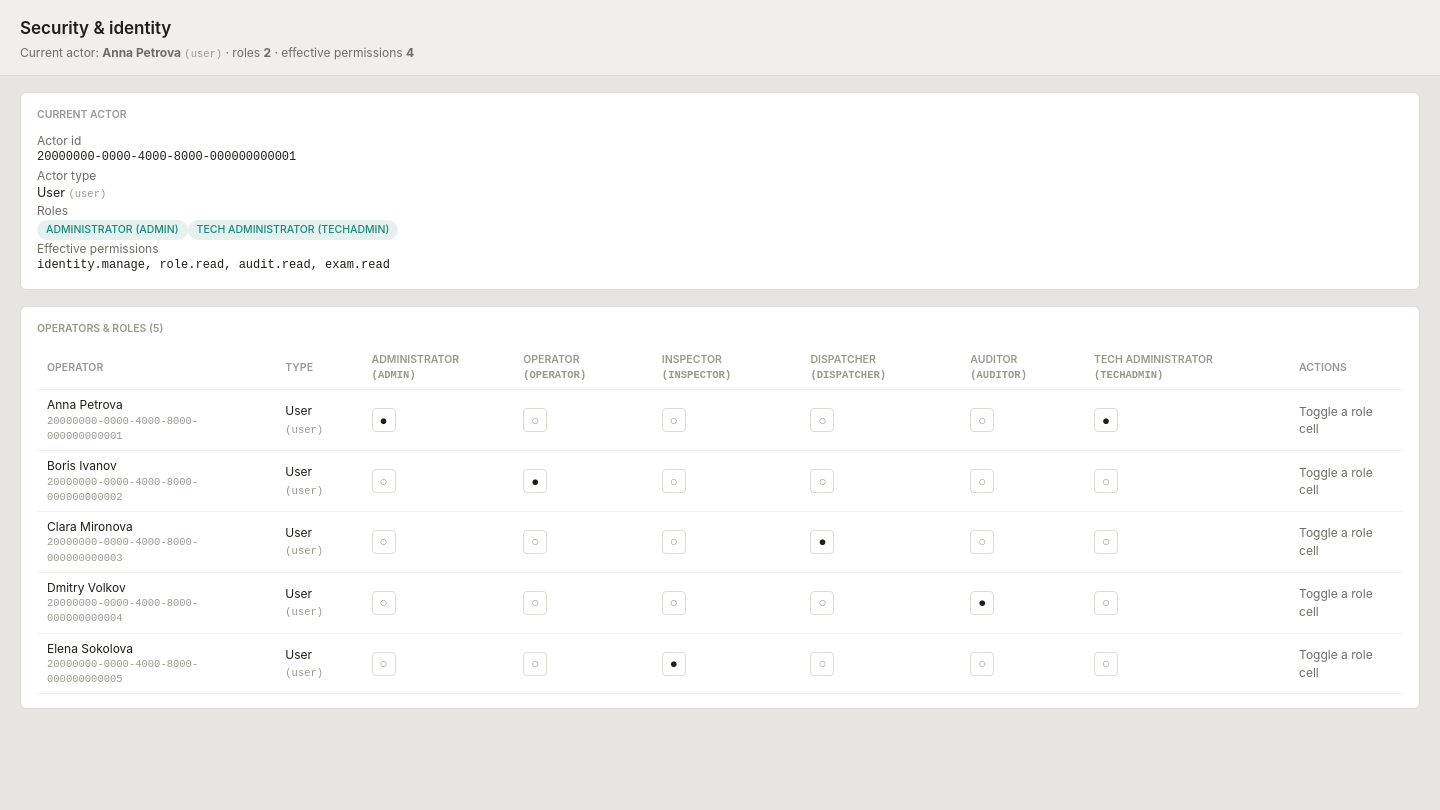
SecurityScreen live role management › surfaces a classified access-denied error when assign is forbidden (403)
Check: the heading "Security & identity" is shown, box [20, 18, 171, 38]
What coordinates should you click on to do the following:
click the button named "assign role auditor to Boris Ivanov"
I would click on:
 (982, 481)
Its box is [970, 469, 994, 493].
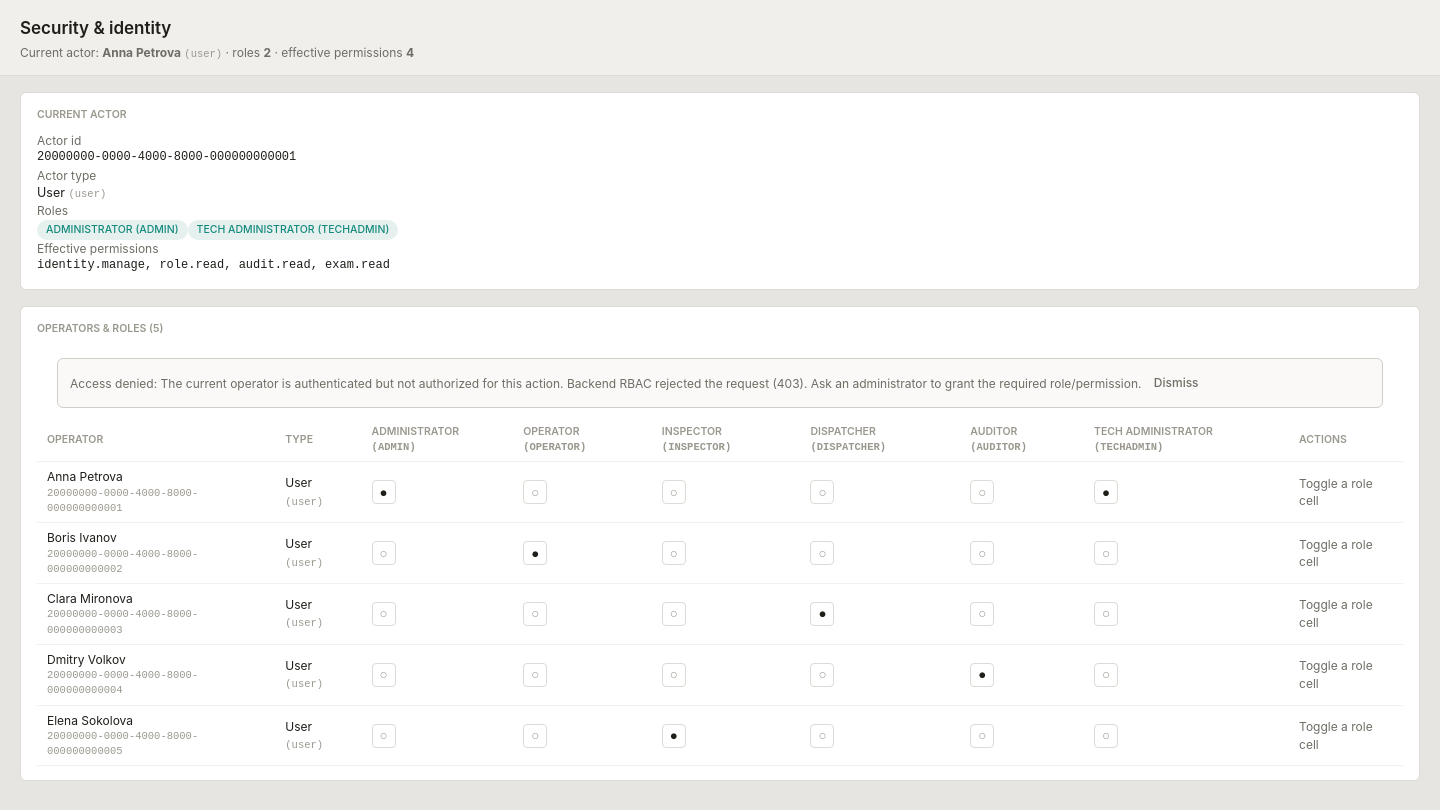
Check: the message named "role management error" shows "Access denied", box [70, 375, 154, 390]
